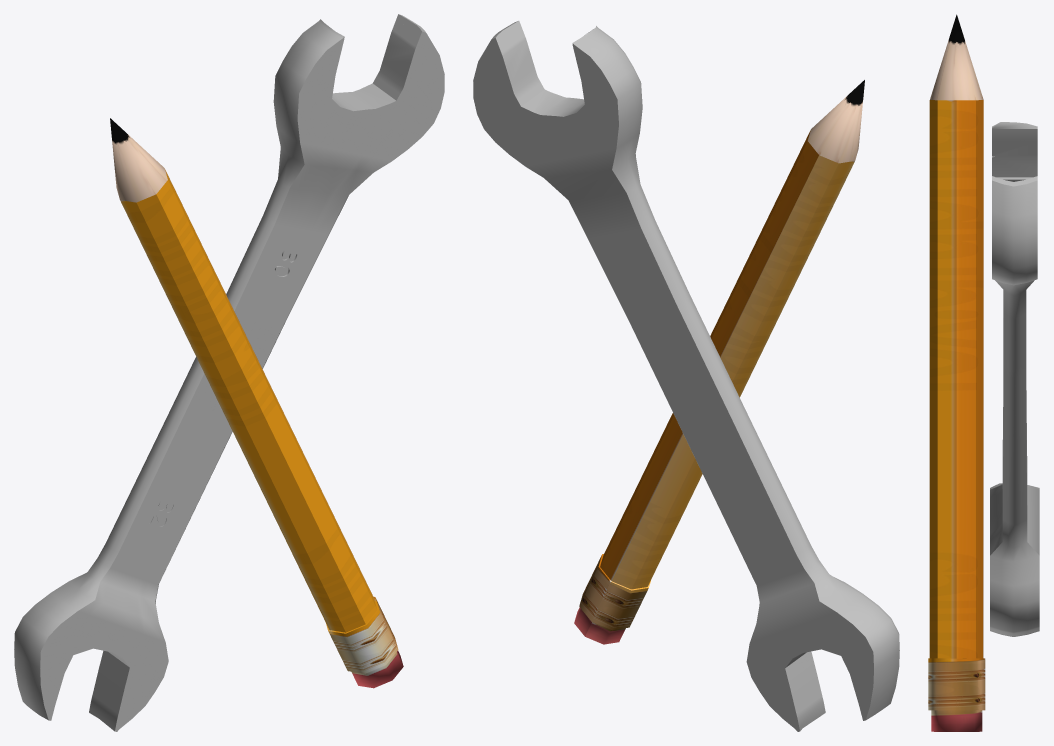
Rendered from edim.glb.
The picture shows the model from 3 angles, left to right: view 1: azimuth 30°, elevation 25°; view 2: azimuth 150°, elevation 25°; view 3: azimuth 270°, elevation 25°; orthographic projection. The views are drawn at different scales.
Parts seen in each view (by area): view 1: pCube6, Pencil:headusOBJexport; view 2: pCube6, Pencil:headusOBJexport; view 3: Pencil:headusOBJexport, pCube6.
Part boxes in pixels (x1,y1,x2,y2): pCube6: [14, 14, 444, 731]; Pencil:headusOBJexport: [110, 118, 403, 688]; pCube6: [473, 21, 899, 731]; Pencil:headusOBJexport: [574, 80, 864, 644]; Pencil:headusOBJexport: [928, 14, 985, 731]; pCube6: [990, 122, 1039, 636].
Size of the model in its own units: 0.0358 by 0.0531 by 0.0087.
2 materials, 1 textured.
